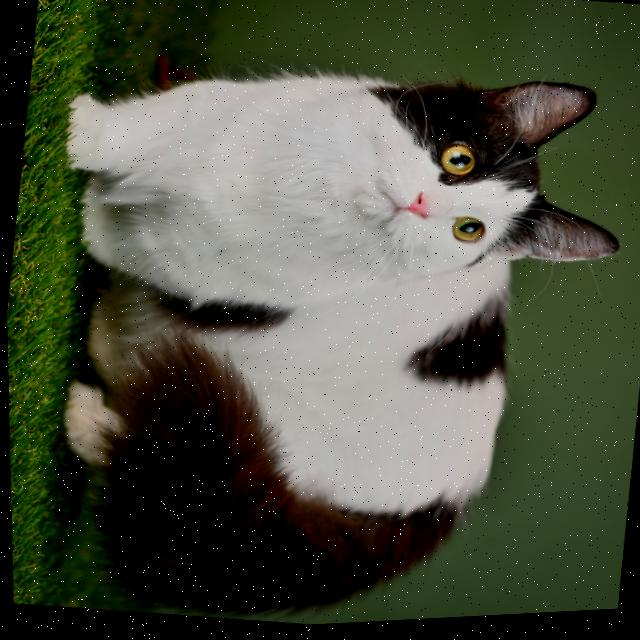Munchkin: (1, 20, 640, 640)
